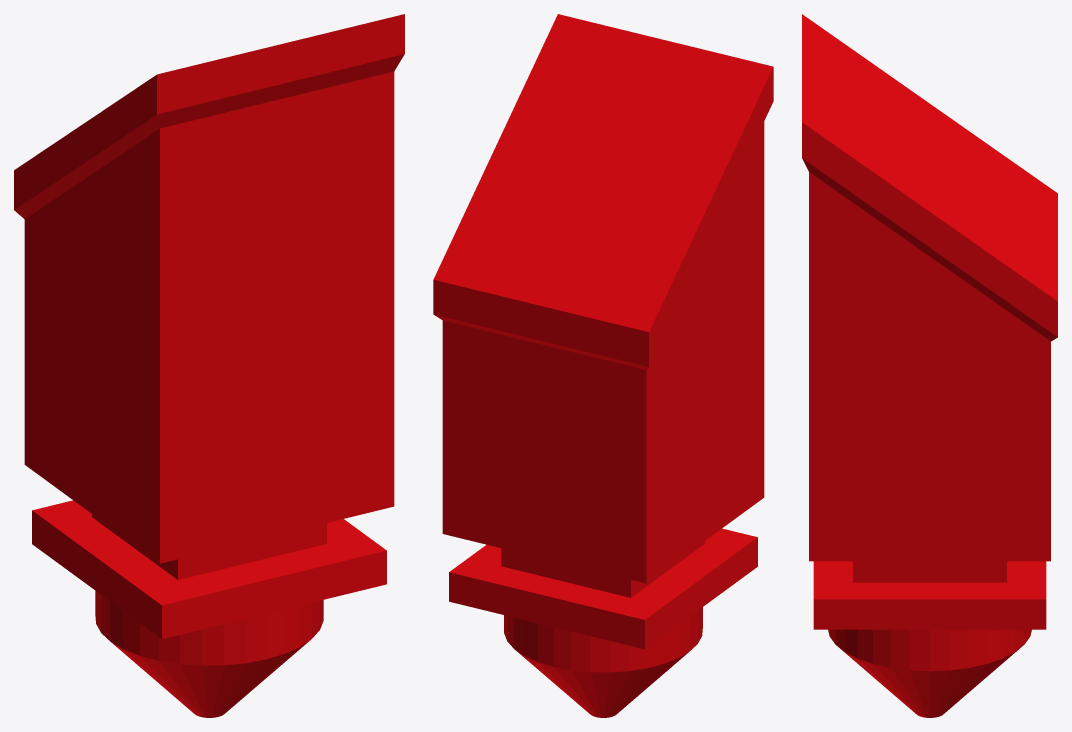
File: lens.fbx
The picture shows the model from 3 angles, left to right: view 1: azimuth 30°, elevation 25°; view 2: azimuth 150°, elevation 25°; view 3: azimuth 270°, elevation 25°; orthographic projection. The views are drawn at different scales.
Parts seen in each view (by area): view 1: Cube, Cylinder; view 2: Cube, Cylinder; view 3: Cube, Cylinder.
Boxes of the visible parts, <box> form: Cube: <box>14,14,404,638</box>; Cylinder: <box>95,591,323,717</box>; Cube: <box>433,14,773,649</box>; Cylinder: <box>504,607,702,717</box>; Cube: <box>802,14,1057,629</box>; Cylinder: <box>828,629,1031,717</box>.
Size of the model in its own units: 211 by 586 by 211.
